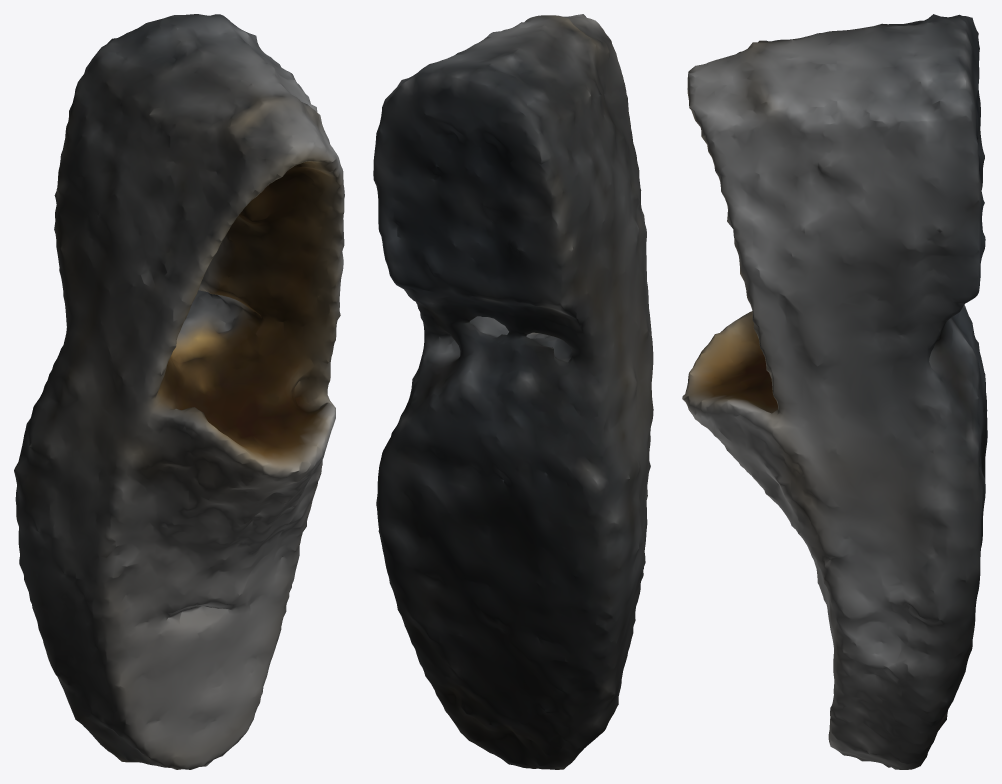
File: leather.glb
3 views of the same model, side by side, from view 1: azimuth 30°, elevation 25°; view 2: azimuth 150°, elevation 25°; view 3: azimuth 270°, elevation 25° (orthographic). The views are drawn at different scales.
Size of the model in its own units: 0.3604 by 0.9934 by 0.3667.
